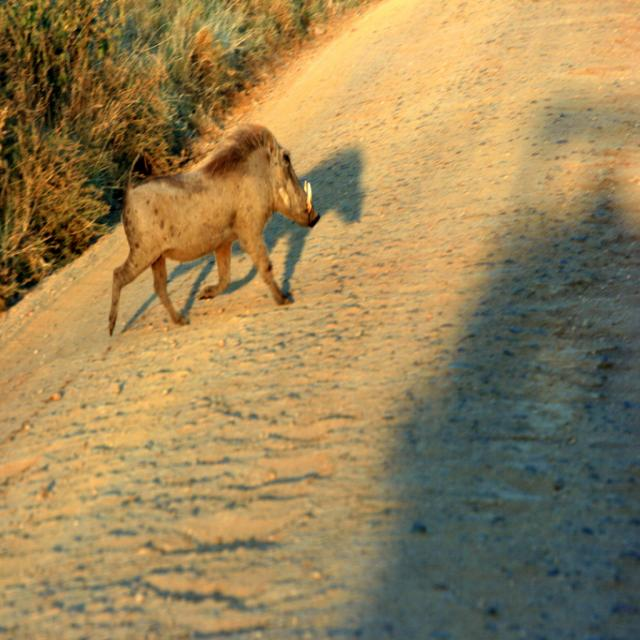Pig: (106, 125, 322, 338)
